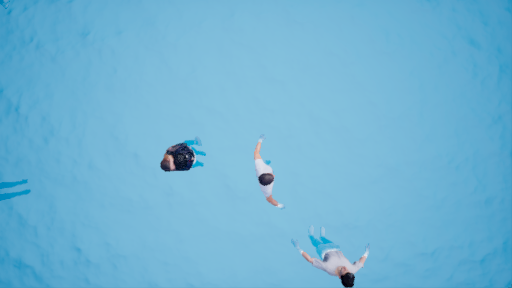person: (291, 220, 378, 286), (245, 134, 287, 210), (159, 135, 211, 175)
